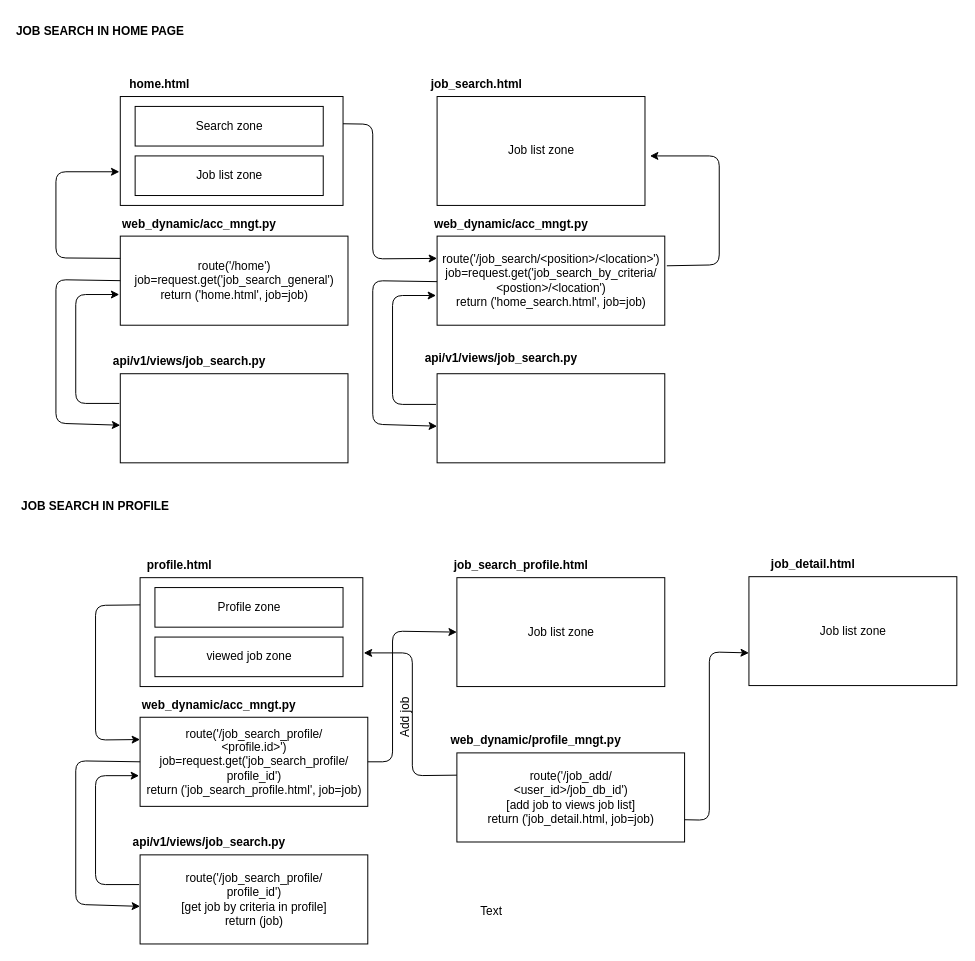
Image size: 975x961. Some labels were removed from this diagram. The shapes that lost their labels are listed below. From the top down, each one's centre as x and y in pixels, then its label:
At pixel 233 418: "route('/job_search_general') [get job] return (job)".
At pixel 550 418: "route('/job_search_by_criteria/ <position>/<location>') [get job] return (job)".
